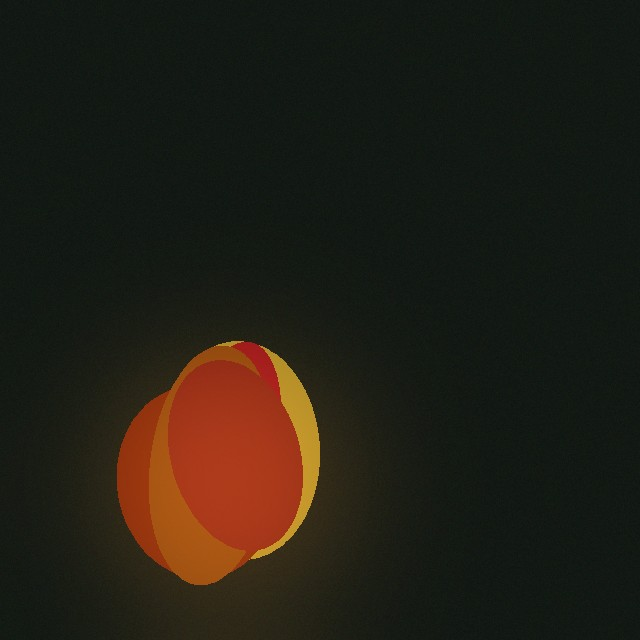fire: (147, 400, 305, 566)
